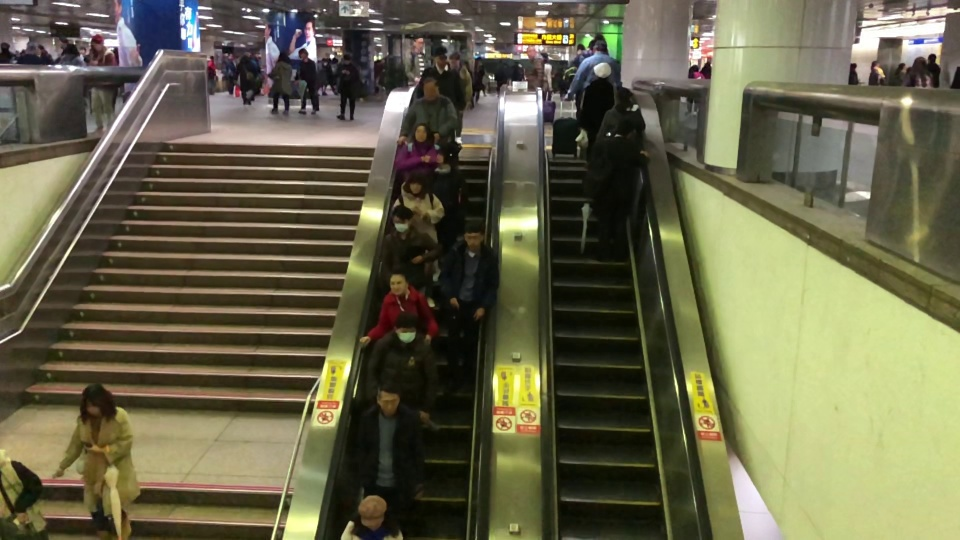person_head: (81, 385, 116, 425), (376, 380, 401, 418), (360, 495, 386, 528), (403, 168, 428, 200), (394, 313, 418, 344), (412, 122, 434, 151), (463, 218, 483, 249), (387, 268, 409, 296), (907, 57, 927, 87), (389, 206, 412, 231), (612, 85, 632, 108), (616, 111, 633, 137), (433, 44, 448, 71), (592, 61, 612, 81), (423, 77, 438, 99), (90, 33, 104, 51), (592, 39, 608, 54), (412, 32, 423, 51), (450, 52, 461, 70), (275, 51, 289, 64), (57, 34, 68, 49), (297, 48, 309, 60), (26, 42, 38, 53), (540, 52, 551, 64), (527, 46, 537, 58), (340, 53, 349, 64), (0, 42, 8, 52), (208, 55, 214, 61)
person_vbox: (48, 385, 140, 538), (364, 312, 431, 487), (579, 110, 649, 259), (444, 216, 493, 398), (357, 376, 418, 514), (360, 267, 440, 355), (405, 75, 456, 202), (375, 205, 442, 292), (0, 442, 45, 540), (593, 82, 645, 166), (575, 59, 615, 168), (391, 166, 443, 248), (567, 37, 617, 106), (85, 35, 115, 134), (341, 494, 402, 540), (392, 119, 445, 168), (449, 51, 472, 144), (267, 48, 293, 117), (334, 52, 358, 122), (296, 48, 318, 113), (402, 29, 425, 87), (425, 46, 451, 95), (561, 42, 583, 95), (520, 46, 544, 89), (537, 51, 556, 105), (238, 52, 257, 105), (687, 64, 705, 115), (52, 35, 80, 65), (16, 39, 44, 65), (205, 52, 218, 98), (475, 53, 486, 98), (318, 57, 330, 98), (929, 53, 940, 87), (868, 59, 880, 86), (702, 53, 713, 81), (870, 66, 886, 85), (846, 61, 859, 83), (893, 62, 905, 85), (0, 39, 11, 62)
